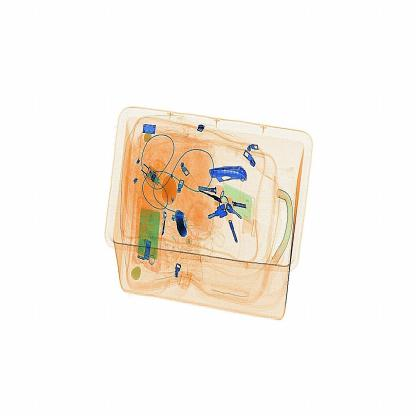knife: (200, 154, 257, 194)
